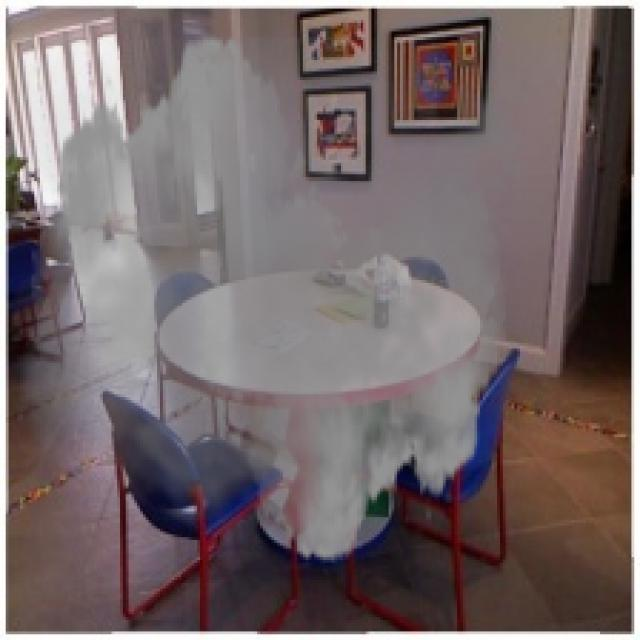smoke: (8, 17, 543, 580)
